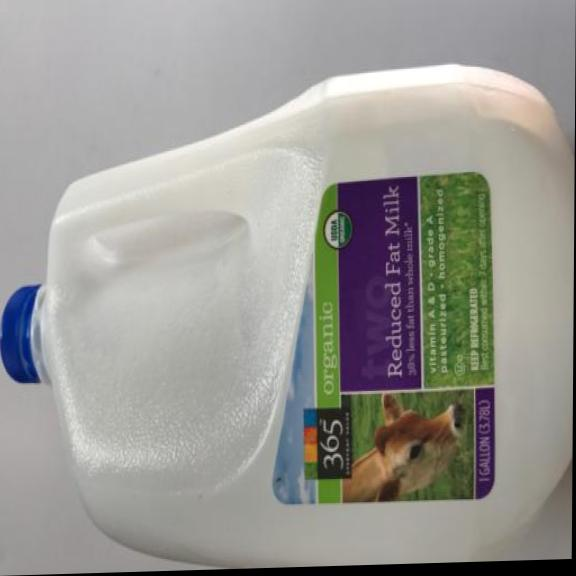Plastik: (31, 58, 575, 566)
